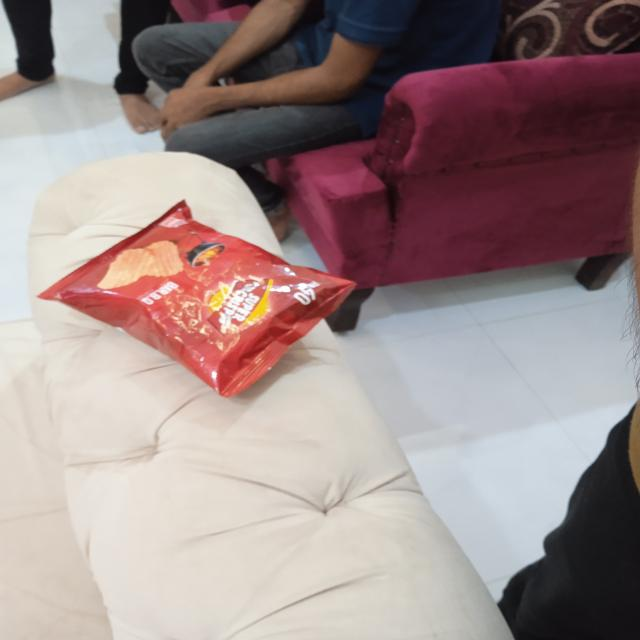Plastic: (41, 196, 359, 397)
